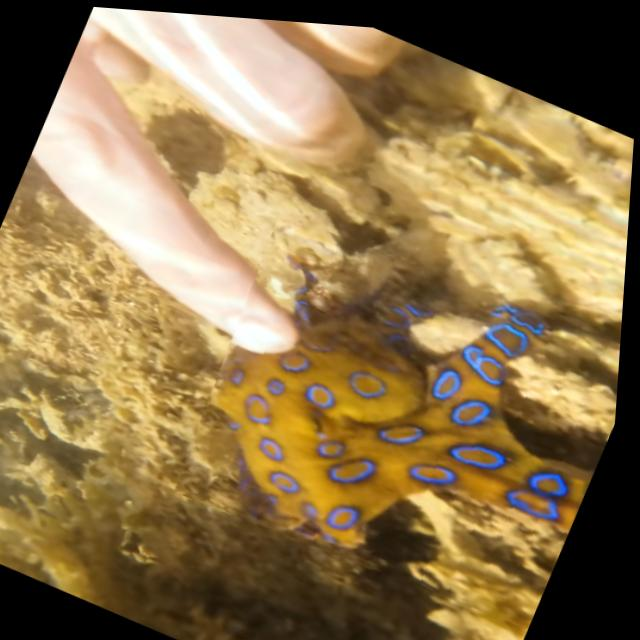blue_ringed_octopus: (165, 191, 631, 633)
